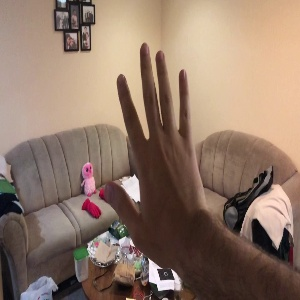hand: (105, 43, 204, 241)
